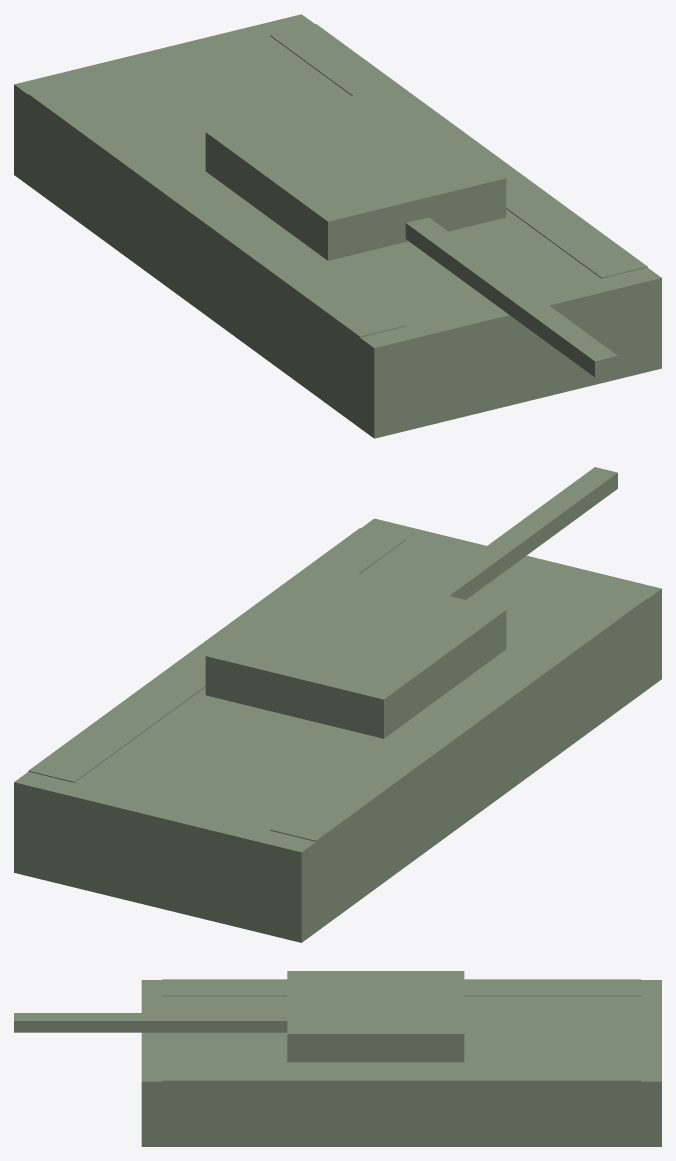
The model's file is m1_abrams.glb.
3 views of the same model, one above another, from view 1: azimuth 30°, elevation 25°; view 2: azimuth 150°, elevation 25°; view 3: azimuth 270°, elevation 25° (orthographic). The views are drawn at different scales.
Visible parts, largest first — view 1: Hull, Turret, Track_L, Track_R, Gun; view 2: Hull, Turret, Track_L, Track_R, Gun; view 3: Hull, Track_R, Turret, Gun, Track_L.
Boxes of the visible parts, x1,y1,x2,y2 form: Hull: (14, 14, 661, 438); Turret: (205, 88, 506, 260); Track_L: (28, 82, 405, 380); Track_R: (270, 24, 647, 278); Gun: (405, 217, 617, 377); Hull: (14, 518, 661, 942); Turret: (205, 566, 506, 738); Track_L: (270, 587, 647, 884); Track_R: (28, 528, 405, 782); Gun: (426, 467, 617, 599); Hull: (141, 980, 661, 1146); Track_R: (162, 1064, 641, 1112); Turret: (287, 971, 464, 1062); Gun: (14, 1013, 287, 1032); Track_L: (162, 979, 641, 996).
Size of the model in its own units: 3.65 by 1.57 by 9.86.
